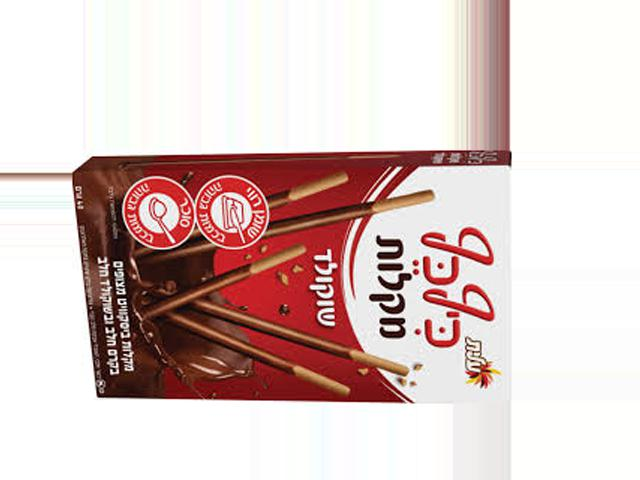chocolate: (99, 152, 509, 405)
